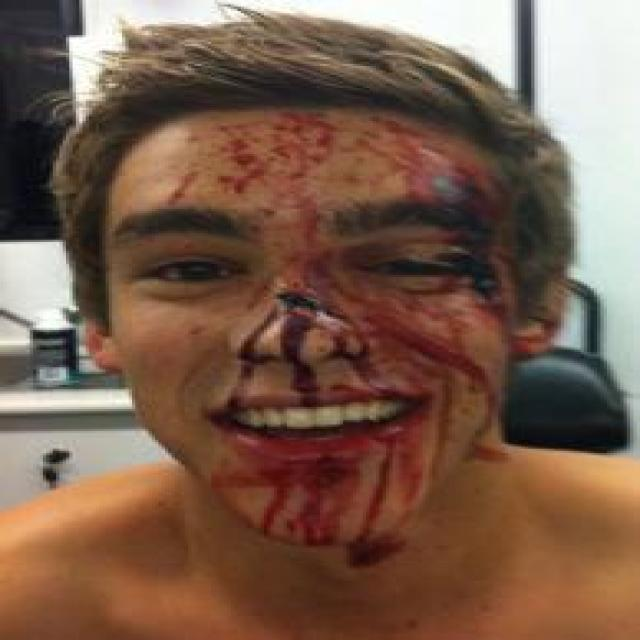flood: (166, 115, 509, 551)
